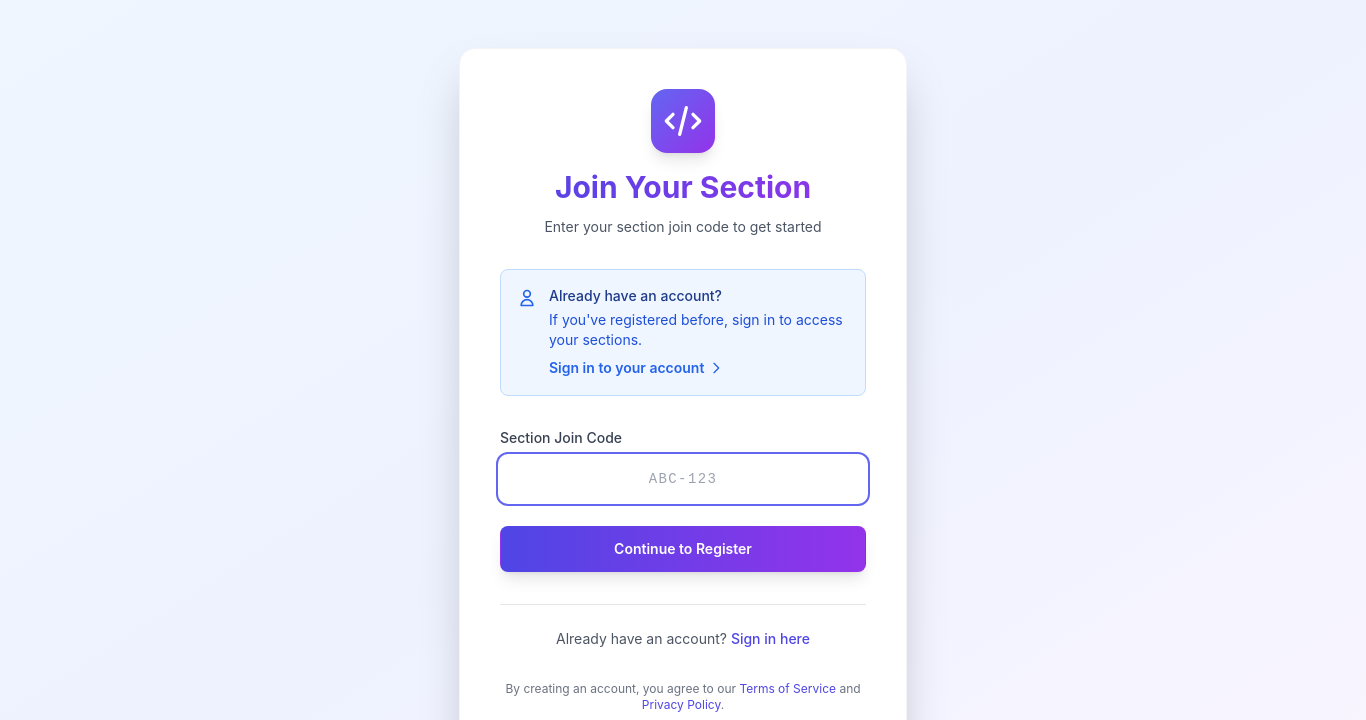
Test: StudentRegistrationPage › Registration Form Validation › shows password strength indicator
Type "ABC123" into the field with placeholder "ABC-123" at {"x": 683, "y": 479}, box [500, 456, 866, 502]
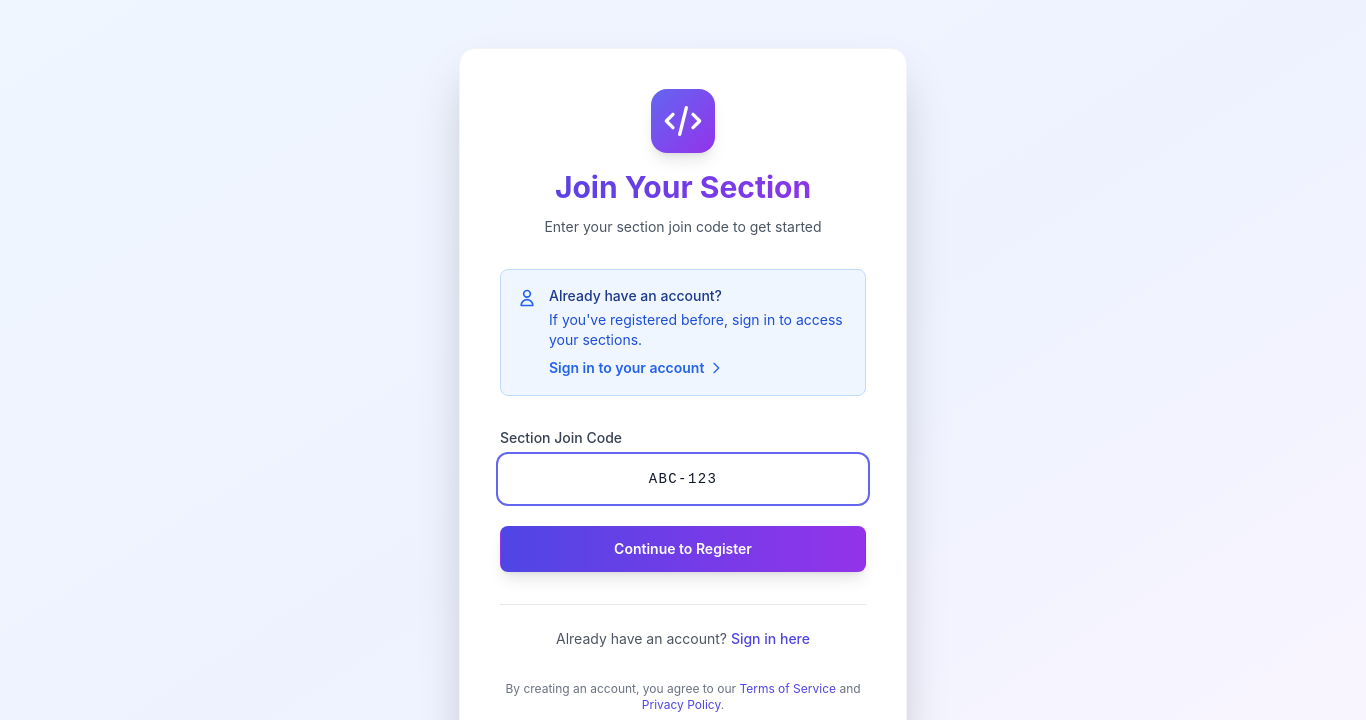
Click the button "Continue to Register" at {"x": 683, "y": 549}, box [500, 526, 866, 572]
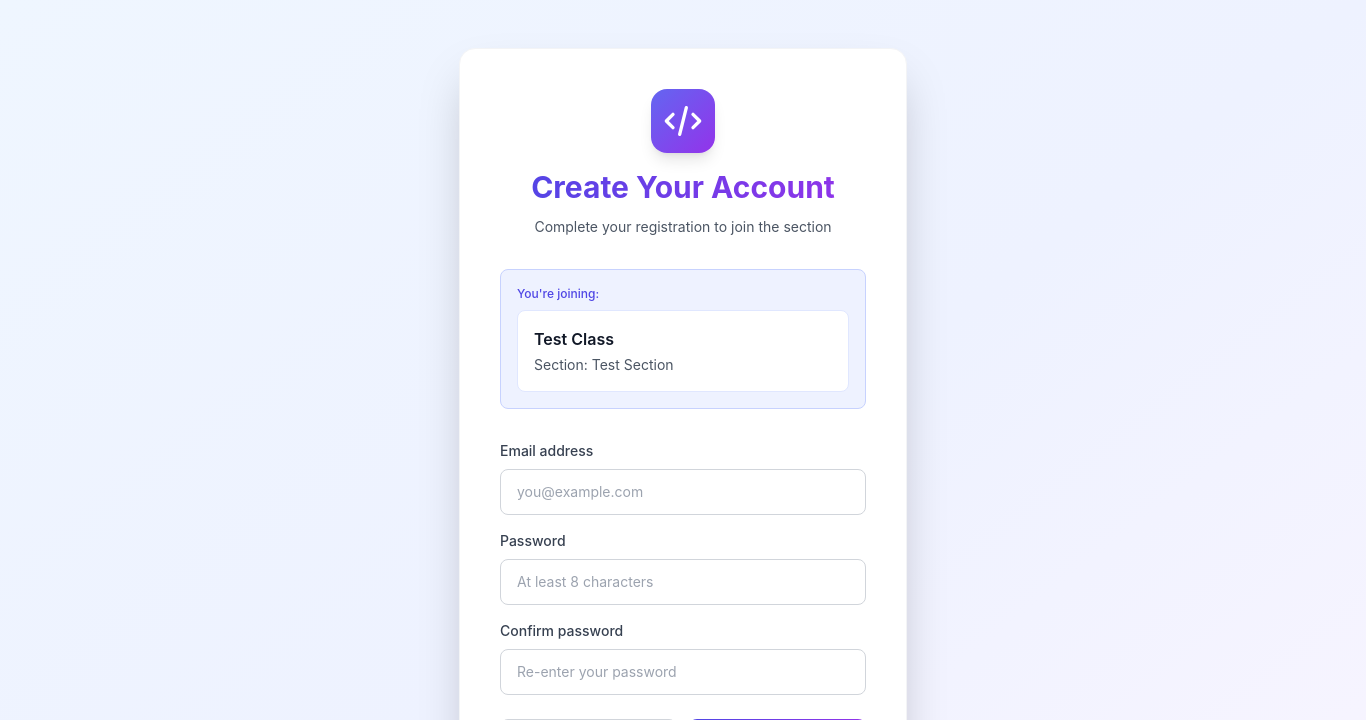
Result: the heading "Create Your Account" is shown at [500, 169, 866, 205]
Type "Password123" into the password field with placeholder "At least 8 characters" at {"x": 683, "y": 582}, box [500, 559, 866, 605]
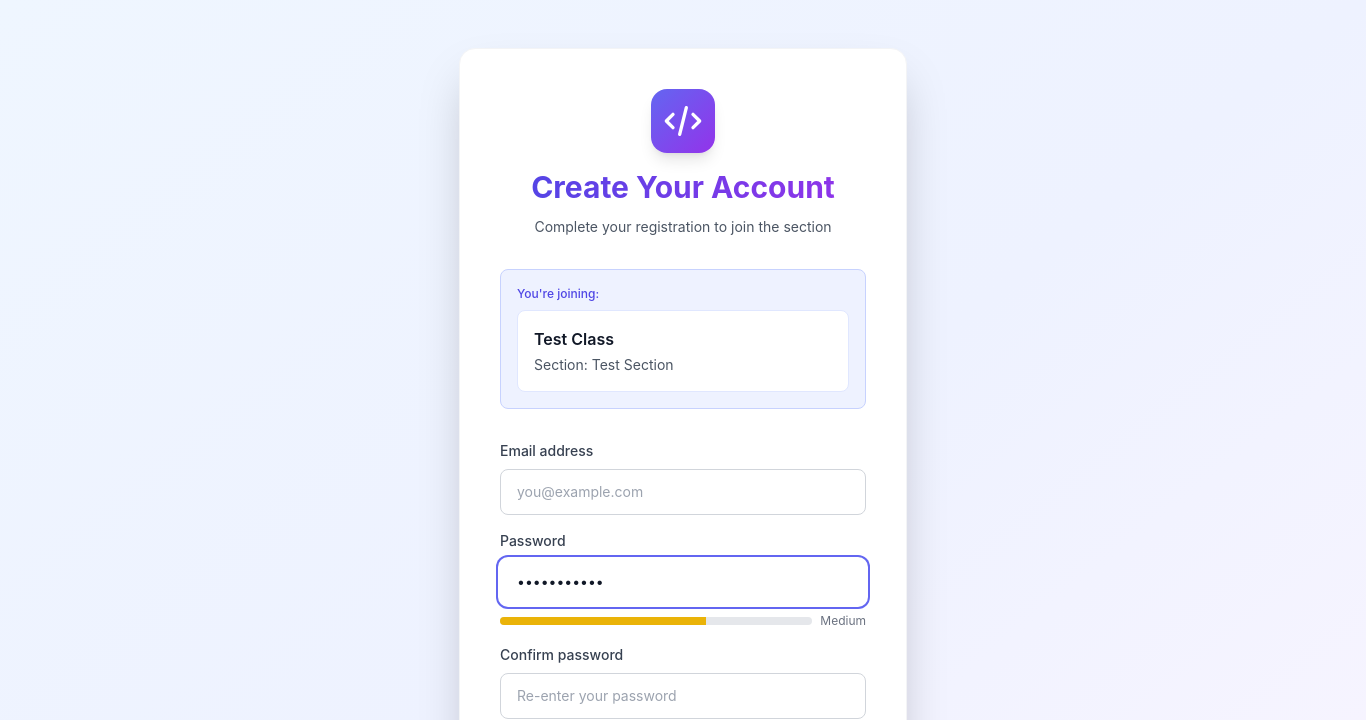
Result: the text "medium" is shown at [820, 613, 866, 629]
